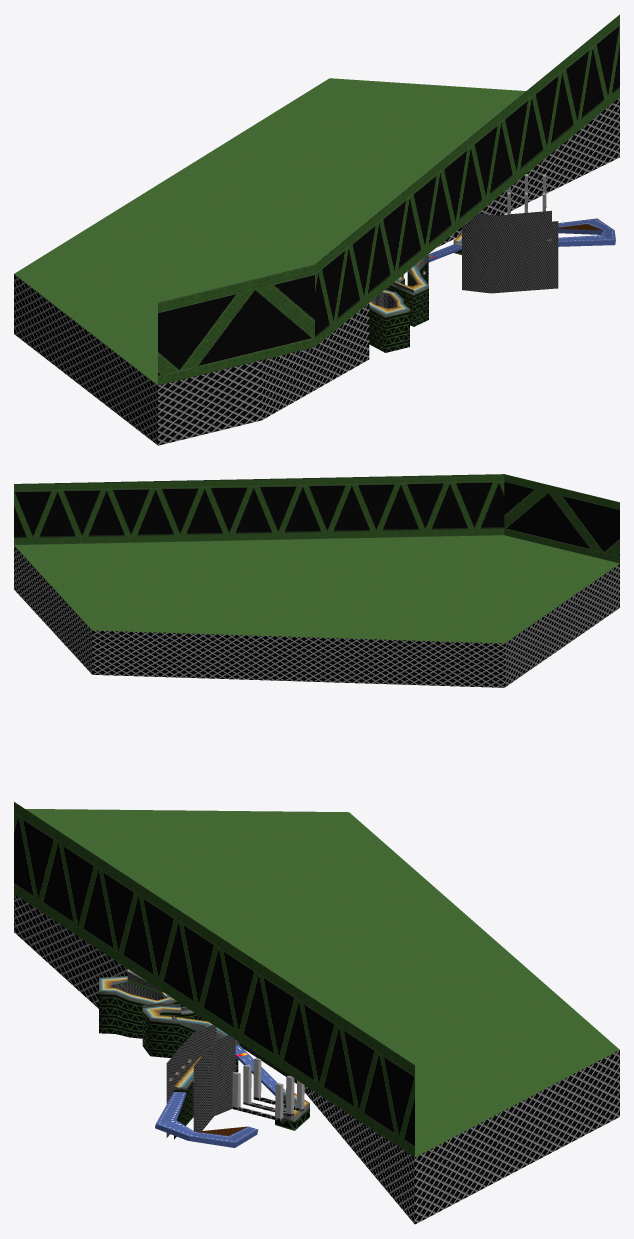
3 views of the same model, one above another, from view 1: azimuth 30°, elevation 25°; view 2: azimuth 150°, elevation 25°; view 3: azimuth 270°, elevation 25° (orthographic). The views are drawn at different scales.
Parts seen in each view (by area): view 1: beam2, beam1, fence.008, road2.001, road.008; view 2: beam2, beam1, fence.008; view 3: beam2, beam1, fence.008, road2.001, wall.004, road.008, concrete.001.
Part boxes in pixels (left/top/right/bottom): beam2: left=14, top=78, right=525, bottom=384; beam1: left=158, top=14, right=619, bottom=385; fence.008: left=14, top=97, right=619, bottom=445; road2.001: left=428, top=218, right=615, bottom=262; road.008: left=369, top=234, right=461, bottom=314; beam2: left=14, top=535, right=619, bottom=643; beam1: left=14, top=474, right=619, bottom=563; fence.008: left=14, top=545, right=619, bottom=687; beam2: left=25, top=809, right=619, bottom=1157; beam1: left=14, top=802, right=414, bottom=1157; fence.008: left=14, top=894, right=619, bottom=1224; road2.001: left=155, top=1044, right=284, bottom=1147; wall.004: left=127, top=969, right=304, bottom=1118; road.008: left=99, top=976, right=309, bottom=1116; concrete.001: left=99, top=979, right=309, bottom=1121.
Bounding box in the file's own units: 308825 × 72684 × 226690.
14 materials, 14 textured.
